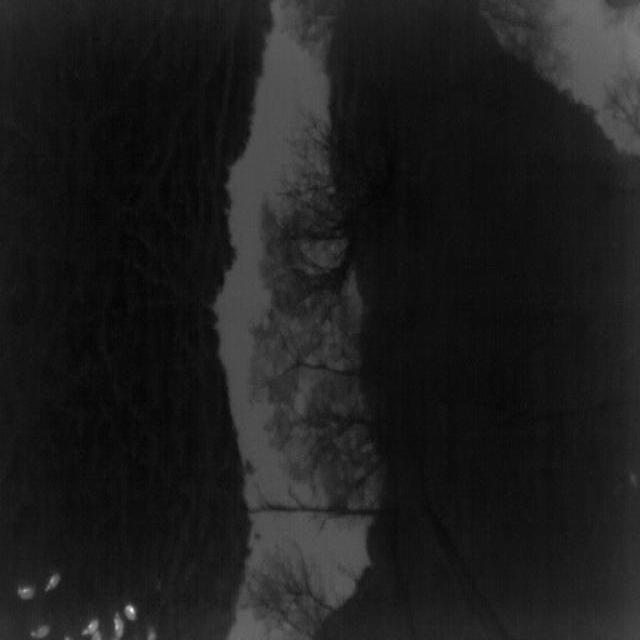deer: (80, 618, 100, 636), (112, 612, 124, 640), (45, 573, 61, 591), (30, 624, 50, 638), (123, 604, 138, 622), (18, 586, 36, 599), (146, 626, 156, 640), (91, 630, 102, 640), (64, 634, 75, 640)
